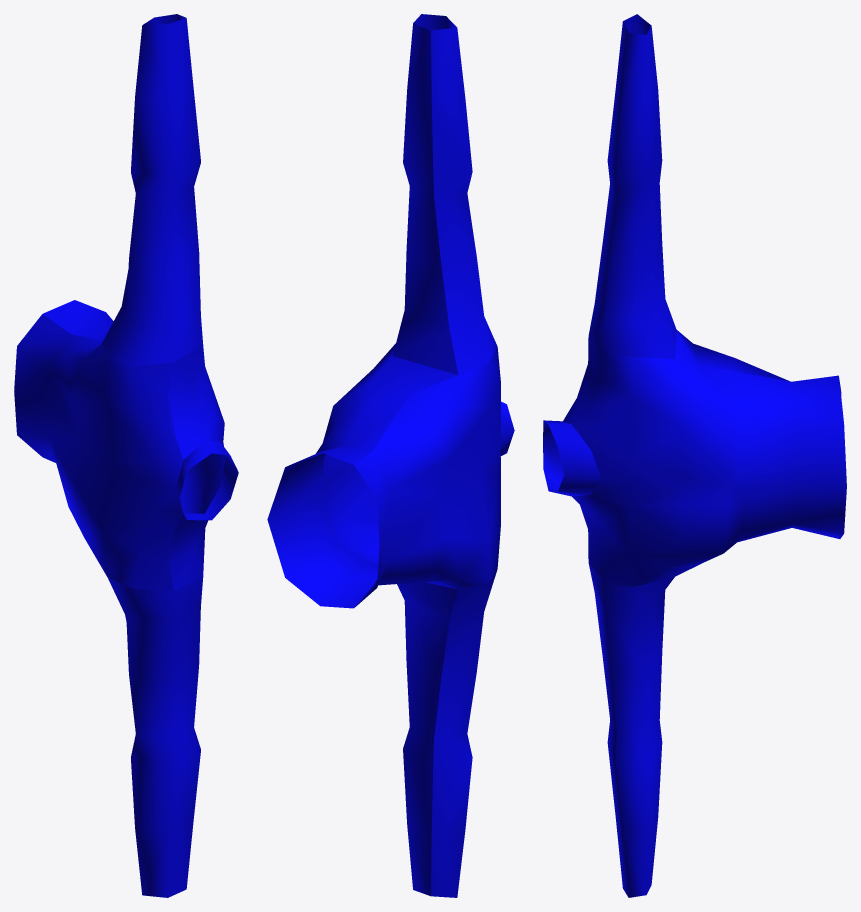
The picture shows the model from 3 angles, left to right: view 1: azimuth 30°, elevation 25°; view 2: azimuth 150°, elevation 25°; view 3: azimuth 270°, elevation 25°; orthographic projection.
Parts seen in each view (by area): view 1: ka_topbody_000; view 2: ka_topbody_000; view 3: ka_topbody_000.
Boxes of the visible parts, x1,y1,x2,y2 form: ka_topbody_000: (14,14,238,897); ka_topbody_000: (267,14,514,897); ka_topbody_000: (543,14,846,897).
Size of the model in its own units: 22.89 by 149 by 47.34.
